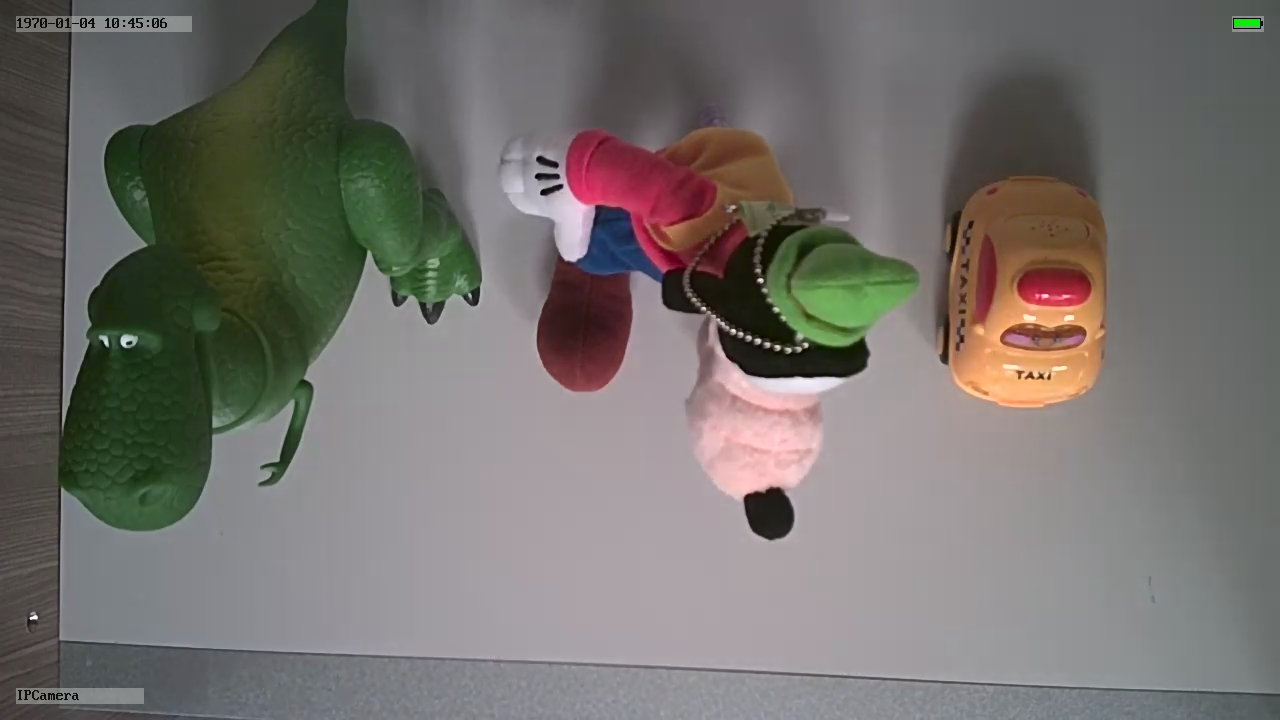goofy: (490, 119, 922, 542)
